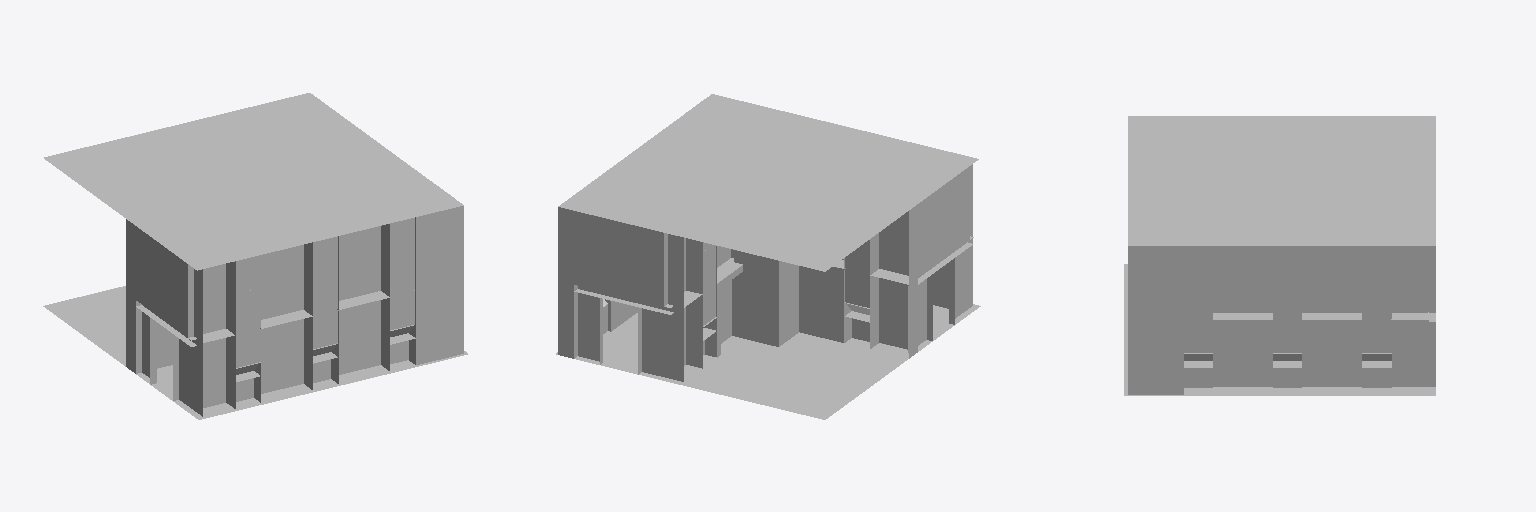
File: LC_room2C.obj
3 views of the same model, side by side, from view 1: azimuth 30°, elevation 25°; view 2: azimuth 150°, elevation 25°; view 3: azimuth 270°, elevation 25° (orthographic).
Visible parts, largest first — view 1: LC_room2C; view 2: LC_room2C; view 3: LC_room2C.
Boxes of the visible parts, x1,y1,x2,y2 form: LC_room2C: [43, 93, 467, 419]; LC_room2C: [556, 94, 980, 419]; LC_room2C: [1124, 116, 1435, 395].
Bounding box in the file's own units: 13.44 × 7.04 × 13.44.